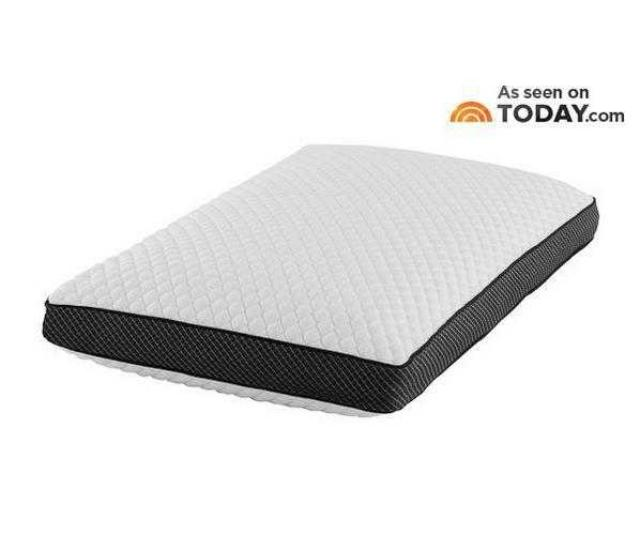pillow: (41, 141, 599, 418)
